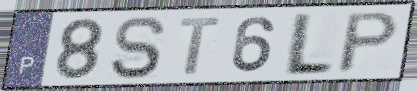6: (231, 15, 276, 75)
8: (55, 16, 106, 81)
L: (279, 11, 337, 78)
P: (334, 10, 403, 76)
S: (107, 14, 169, 81)
T: (178, 15, 223, 77)
